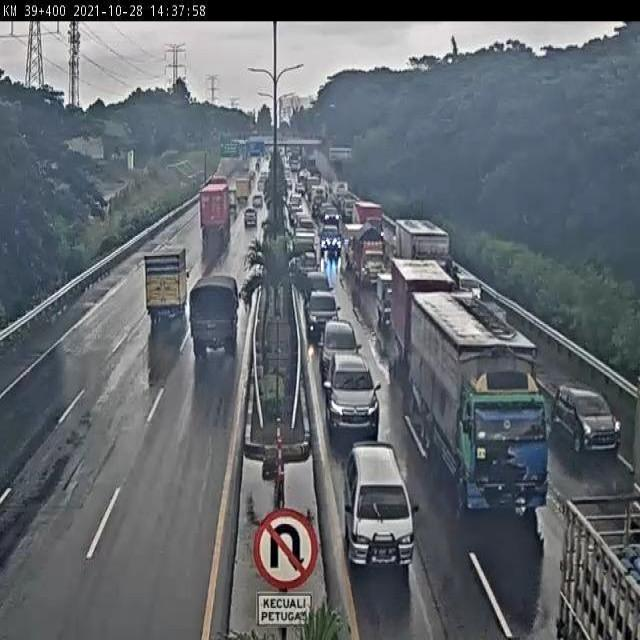car: (555, 385, 624, 455), (318, 221, 343, 252)
truck-l-: (410, 293, 554, 520), (395, 218, 451, 290)
truck-m-: (189, 274, 236, 354), (144, 249, 183, 324), (352, 224, 389, 281)
truck-xl-: (202, 183, 229, 240)
